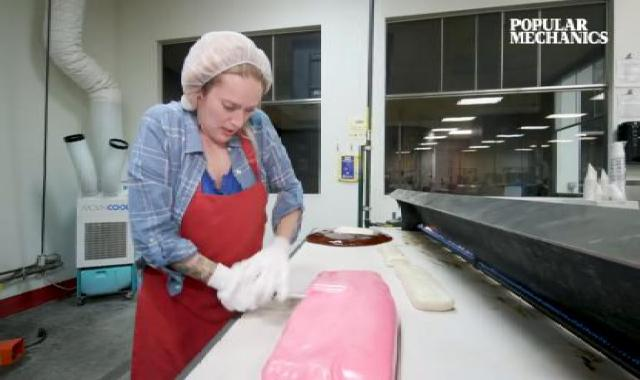hairnet: (180, 23, 286, 110)
